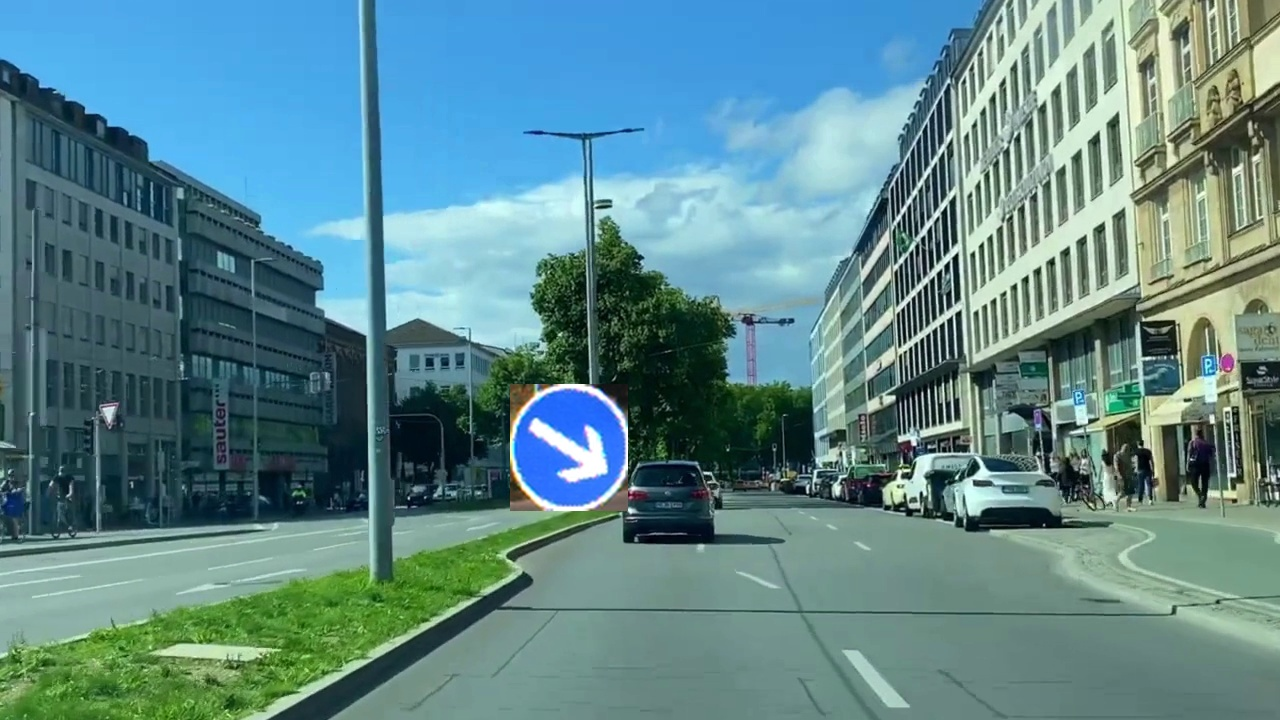Keep right: (510, 384, 628, 511)
